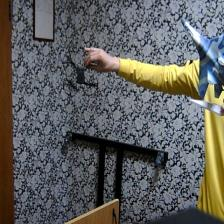drone: (61, 45, 100, 101)
